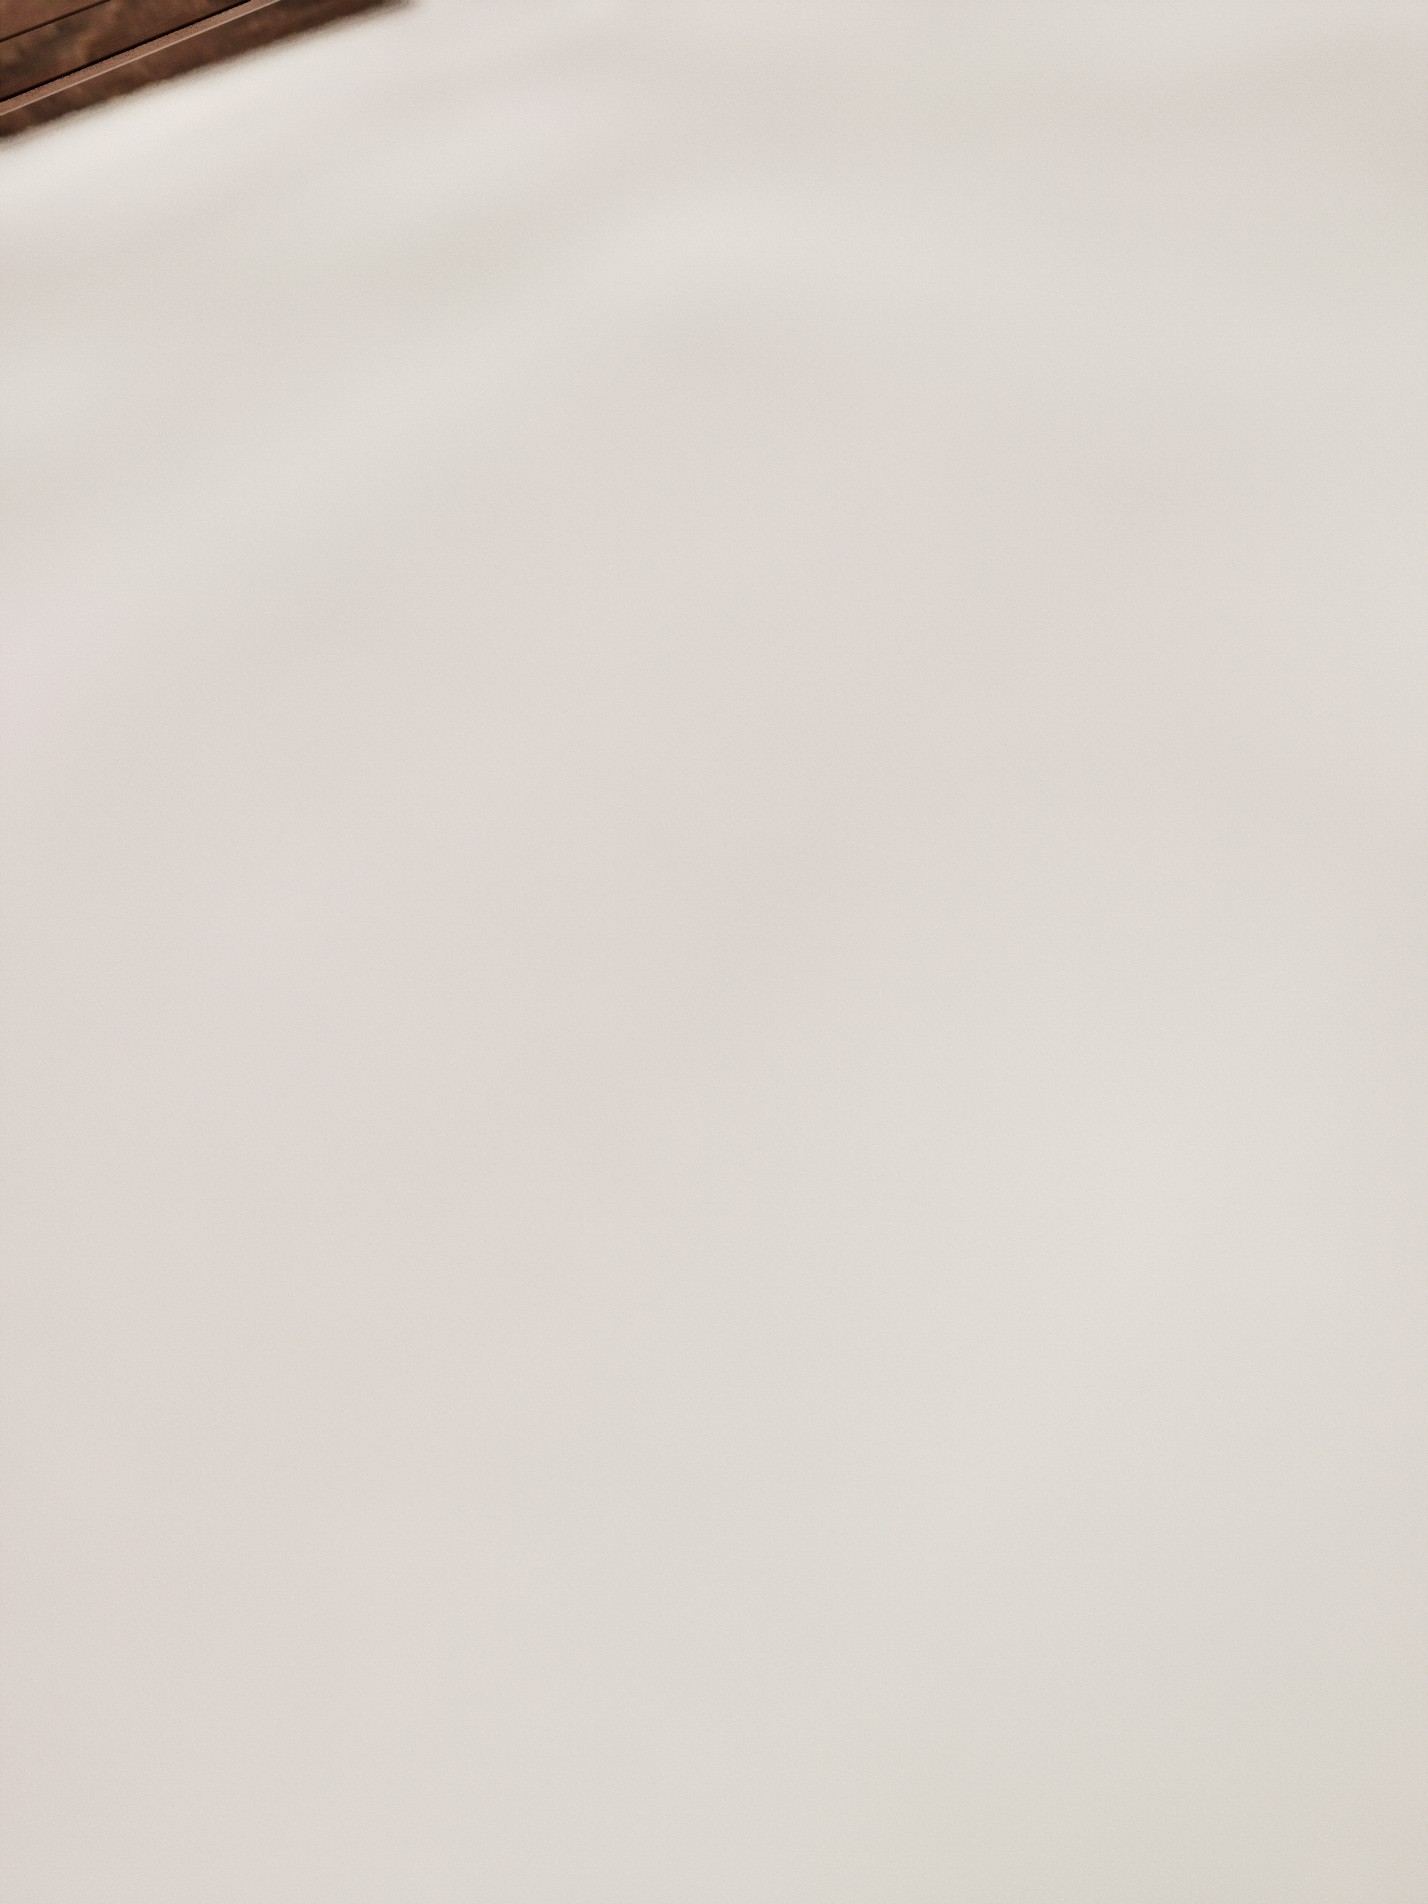cheerios: (431, 372, 1059, 1060)
